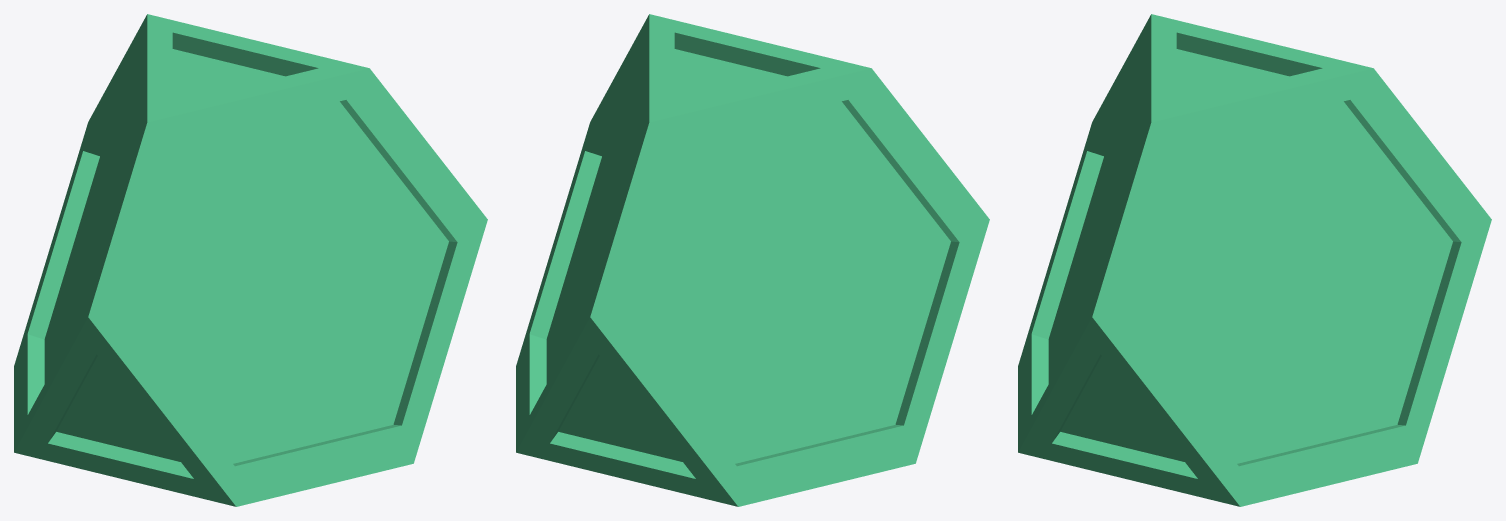
The model's file is player2.fbx.
3 views of the same model, side by side, from view 1: azimuth 30°, elevation 25°; view 2: azimuth 150°, elevation 25°; view 3: azimuth 270°, elevation 25° (orthographic).
Visible parts, largest first — view 1: BeatShutterMiddle, Frame, BeatShutterRight, BeatShutterTopRight, BeatShutterTop; view 2: BeatShutterRight, Frame, BeatShutterLeft, BeatShutterMiddleBottom, BeatShutterTop; view 3: BeatShutterLeft, Frame, BeatShutterMiddle, BeatShutterTopLeft, BeatShutterTop.
Part boxes in pixels (x1=…): BeatShutterMiddle: x1=123, y1=101, x2=448, y2=463; Frame: x1=14, y1=14, x2=487, y2=506; BeatShutterRight: x1=44, y1=86, x2=138, y2=383; BeatShutterTopRight: x1=56, y1=356, x2=180, y2=461; BeatShutterTop: x1=172, y1=49, x2=284, y2=103; BeatShutterRight: x1=625, y1=101, x2=950, y2=463; Frame: x1=516, y1=14, x2=989, y2=506; BeatShutterLeft: x1=546, y1=86, x2=640, y2=383; BeatShutterMiddleBottom: x1=558, y1=356, x2=682, y2=461; BeatShutterTop: x1=674, y1=49, x2=786, y2=103; BeatShutterLeft: x1=1127, y1=101, x2=1452, y2=463; Frame: x1=1018, y1=14, x2=1491, y2=506; BeatShutterMiddle: x1=1048, y1=86, x2=1142, y2=383; BeatShutterTopLeft: x1=1060, y1=356, x2=1184, y2=461; BeatShutterTop: x1=1176, y1=49, x2=1288, y2=103.
Bounding box in the file's own units: 1.11 × 0.9076 × 1.14.
